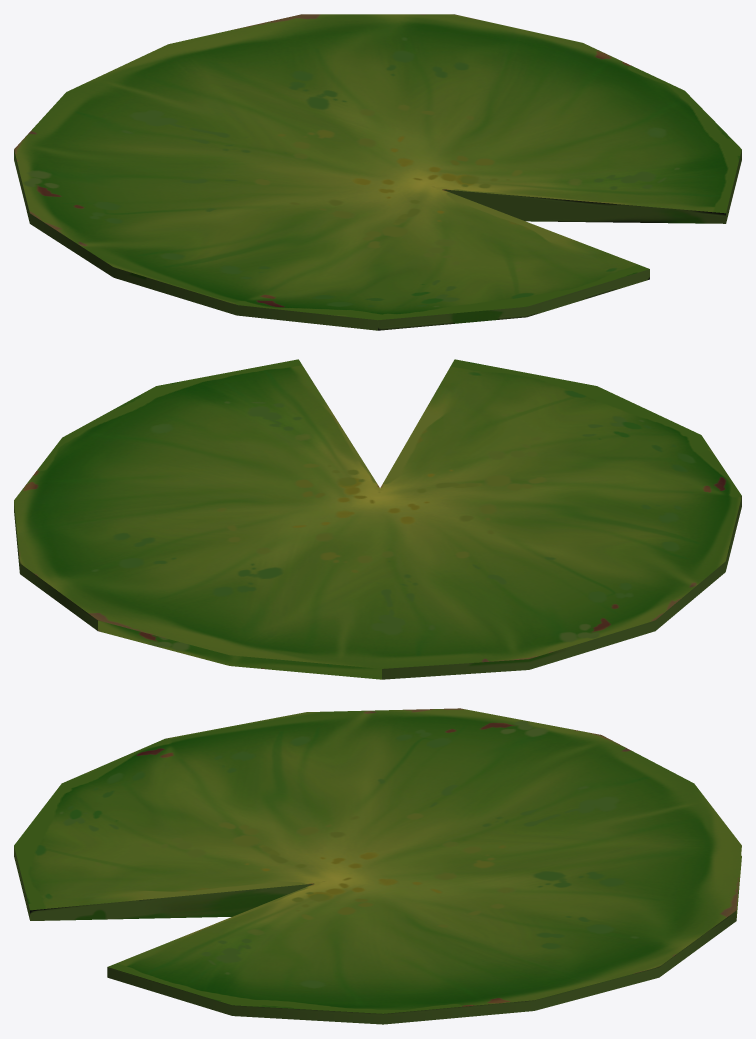
The model's file is lilypad.glb.
The picture shows the model from 3 angles, top to bottom: view 1: azimuth 30°, elevation 25°; view 2: azimuth 150°, elevation 25°; view 3: azimuth 270°, elevation 25°; orthographic projection. The views are drawn at different scales.
Parts seen in each view (by area): view 1: Grote_Lily_lambert2_0; view 2: Grote_Lily_lambert2_0; view 3: Grote_Lily_lambert2_0.
Boxes of the visible parts, x1,y1,x2,y2 form: Grote_Lily_lambert2_0: [14, 14, 741, 330]; Grote_Lily_lambert2_0: [14, 359, 741, 679]; Grote_Lily_lambert2_0: [14, 708, 741, 1024].
Bounding box in the file's own units: 0.0195 × 0.00113 × 0.0196.
1 material, 1 textured.
